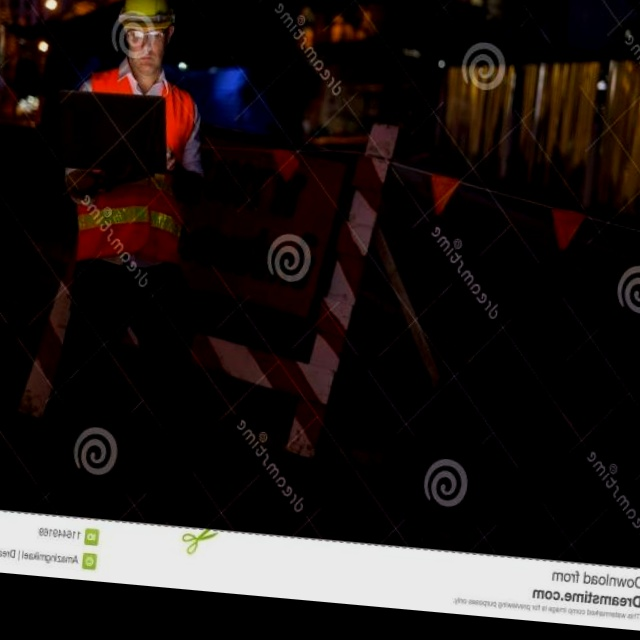Con_Casco: (114, 0, 176, 69)
Con_Chaleco: (70, 66, 197, 262)
